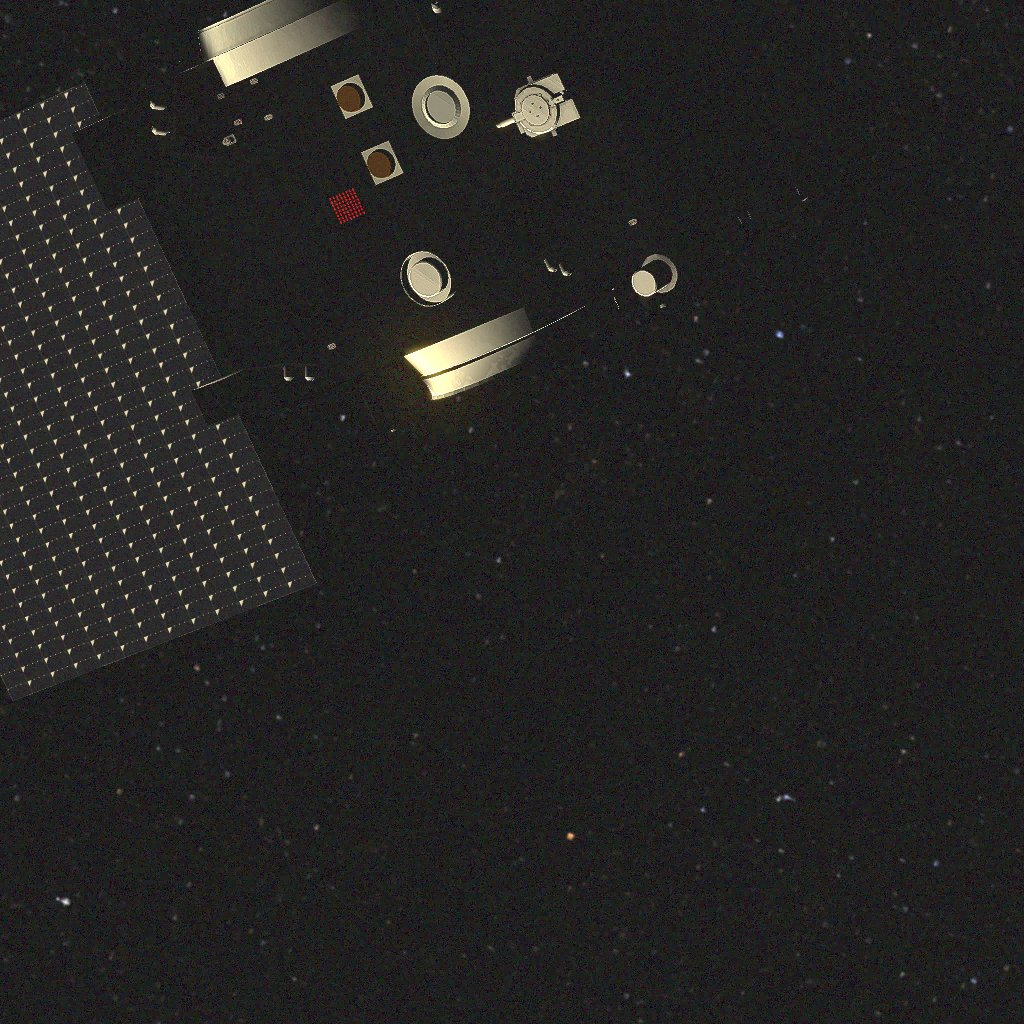proba_3_csc: (0, 0, 810, 701)
